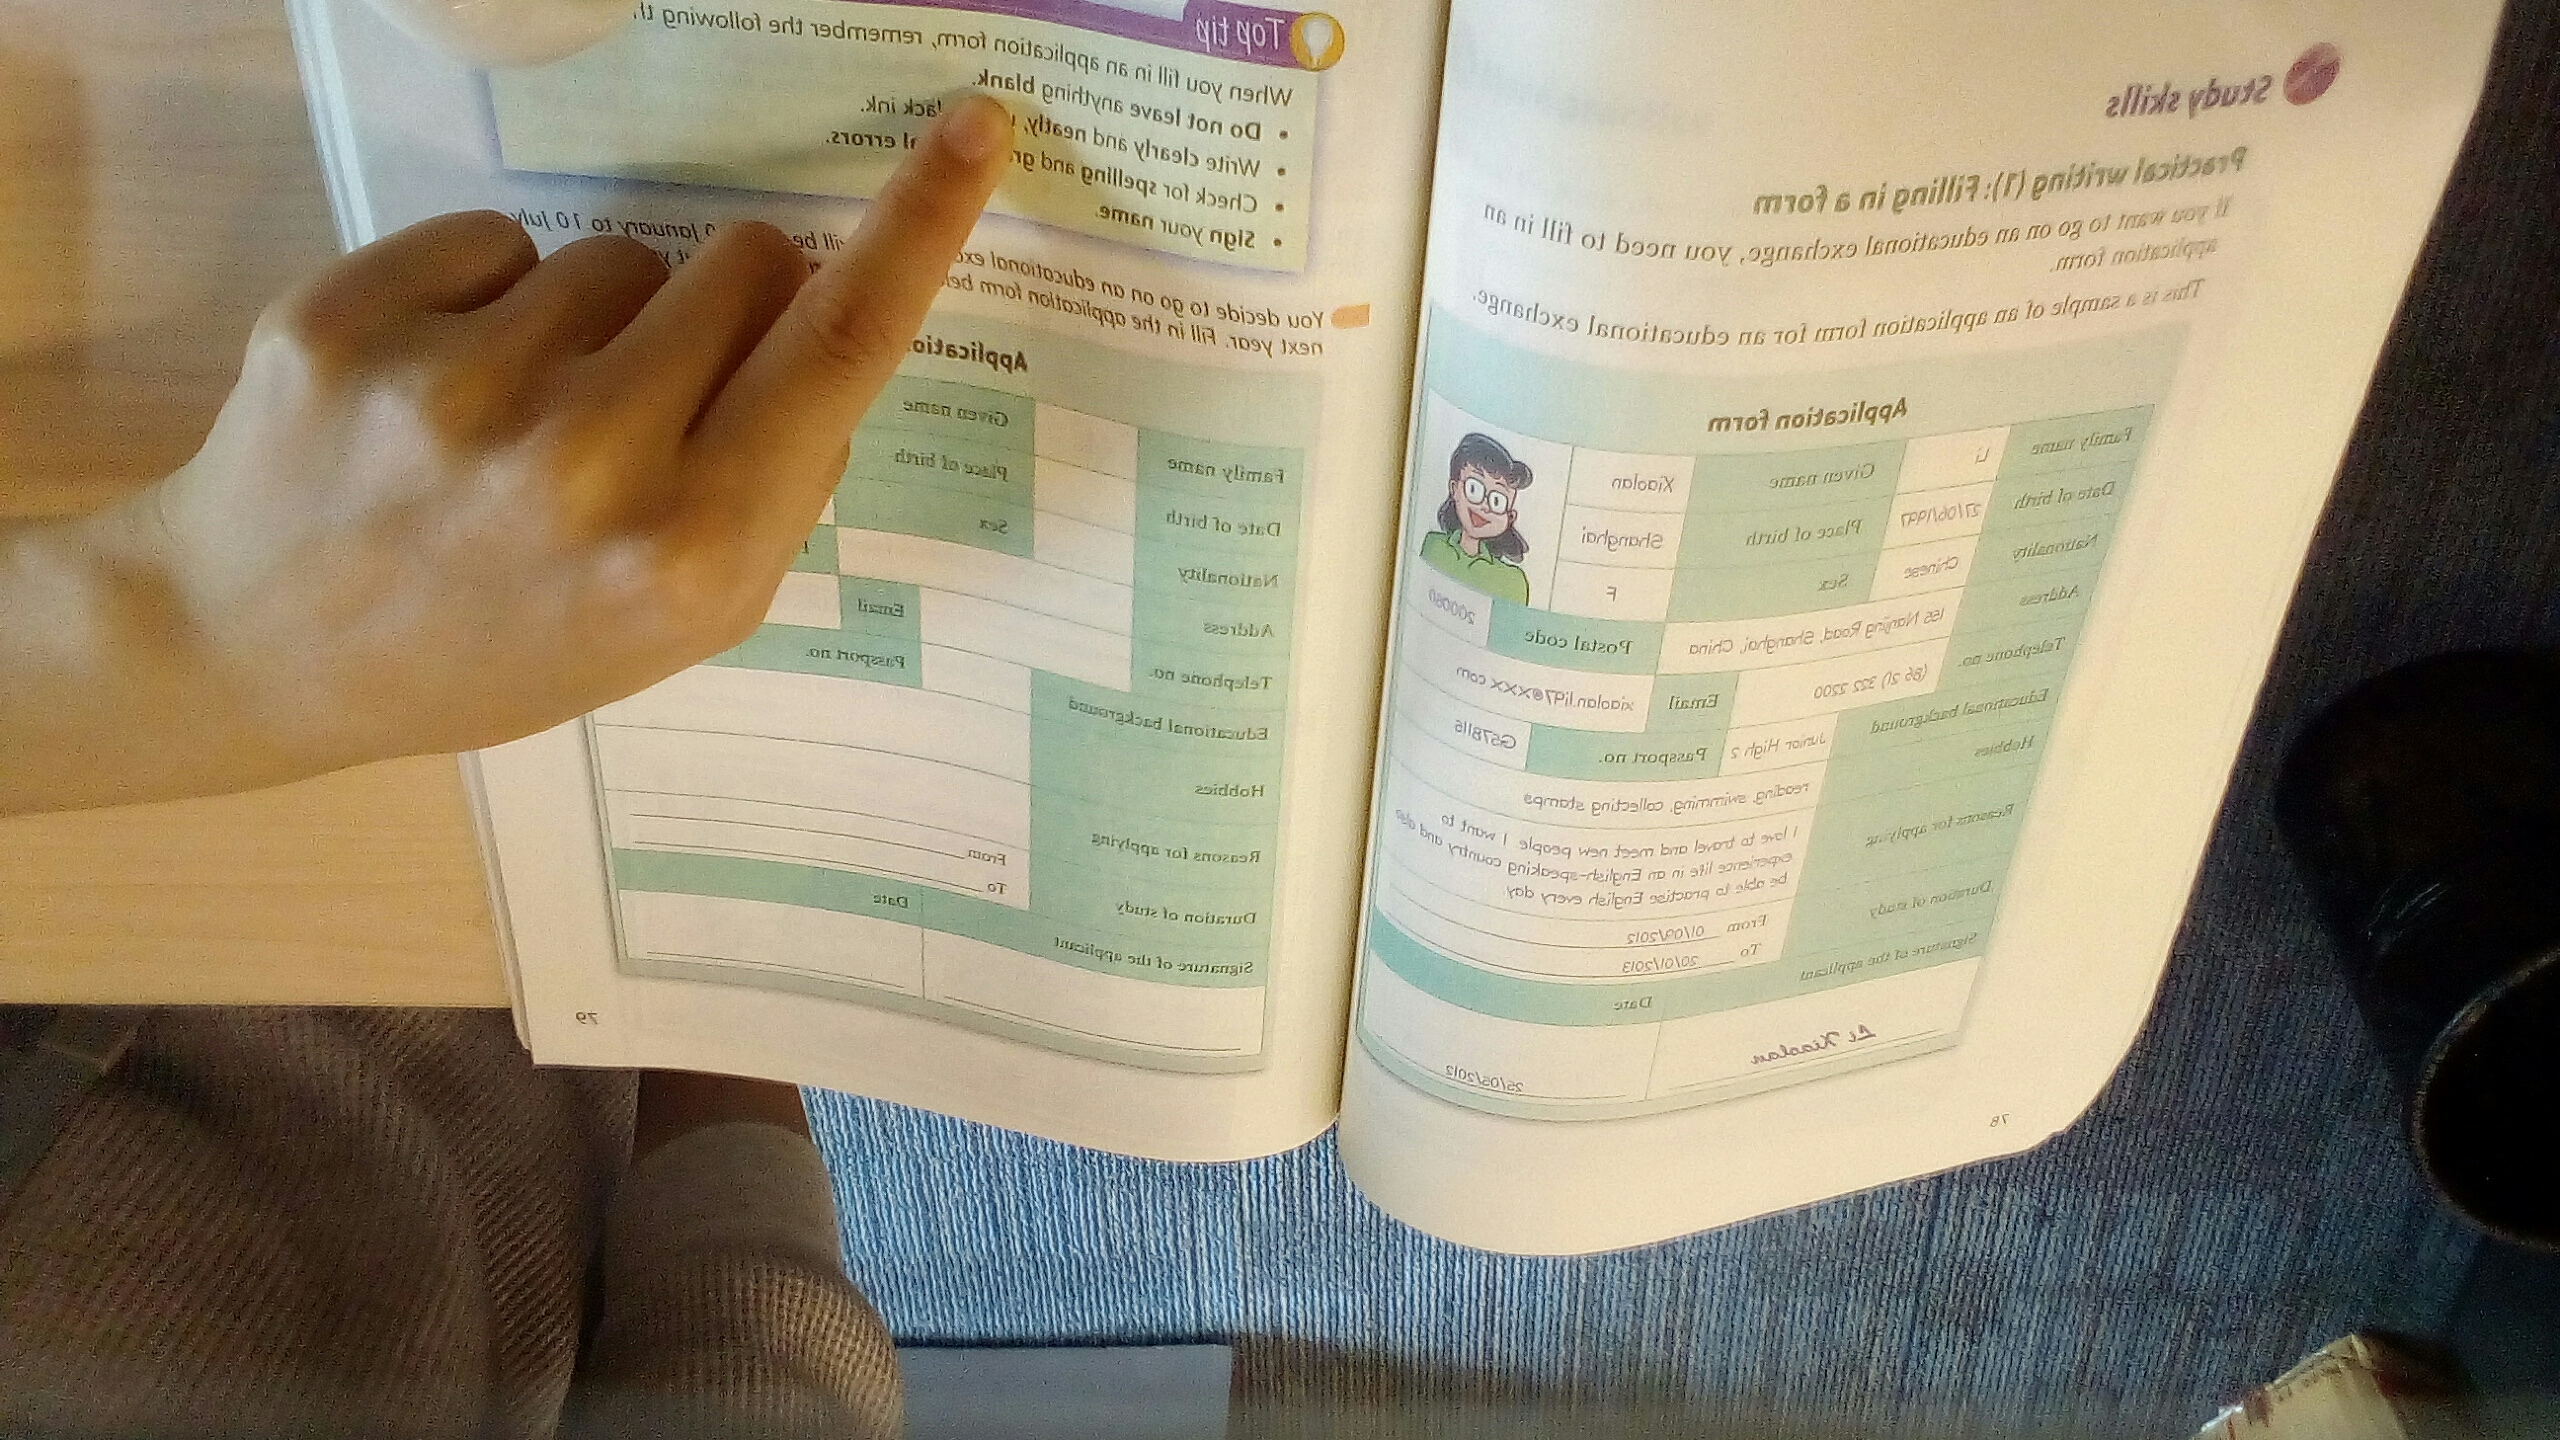1: (11, 11, 100, 100)
2: (49, 49, 100, 100)
fingernail: (918, 88, 1013, 195)
hand: (60, 81, 1015, 814)
